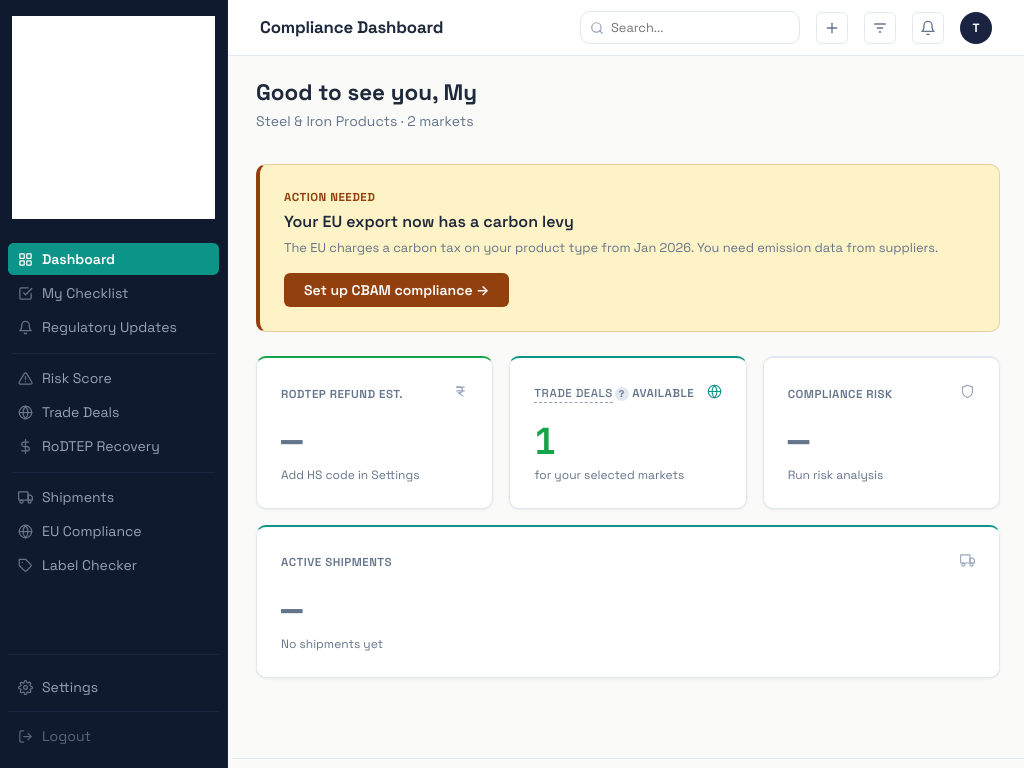
Test: App Component › Navigation › navigates to checklist view
The image size is (1024, 768).
Expected: the navigation bar is shown, [0,0,228,767]
Step 1. Click the button "My Checklist" → (114,293), box [8,277,219,309]
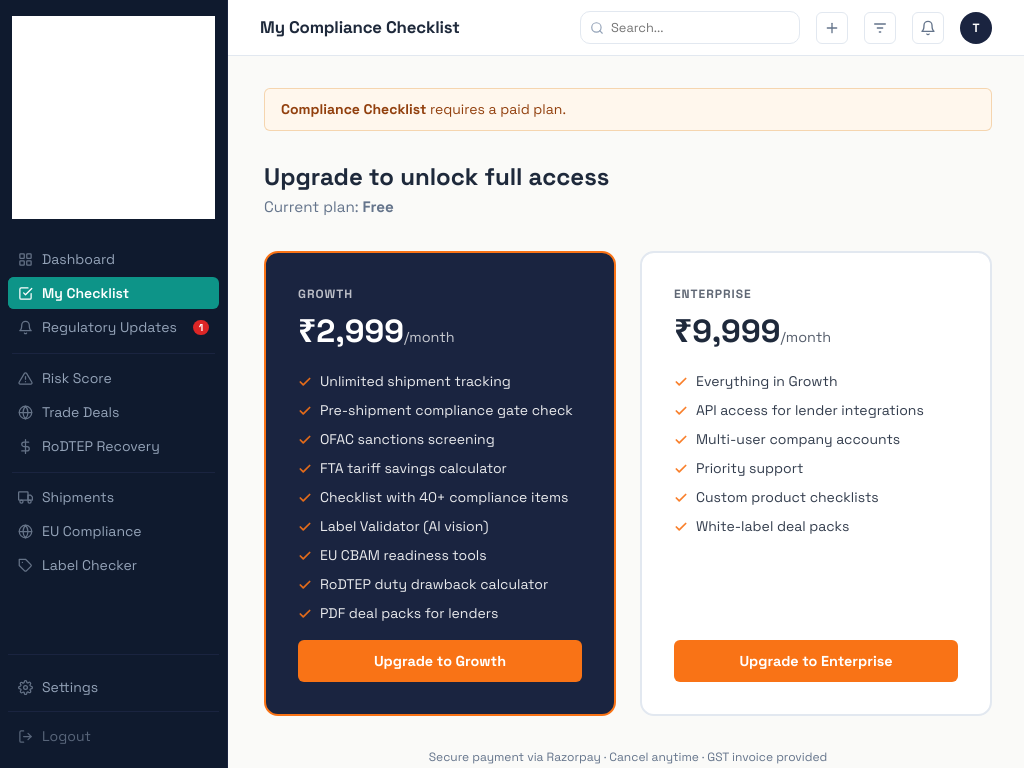
Now the heading "My Compliance Checklist" is shown, box [260,17,460,38]
